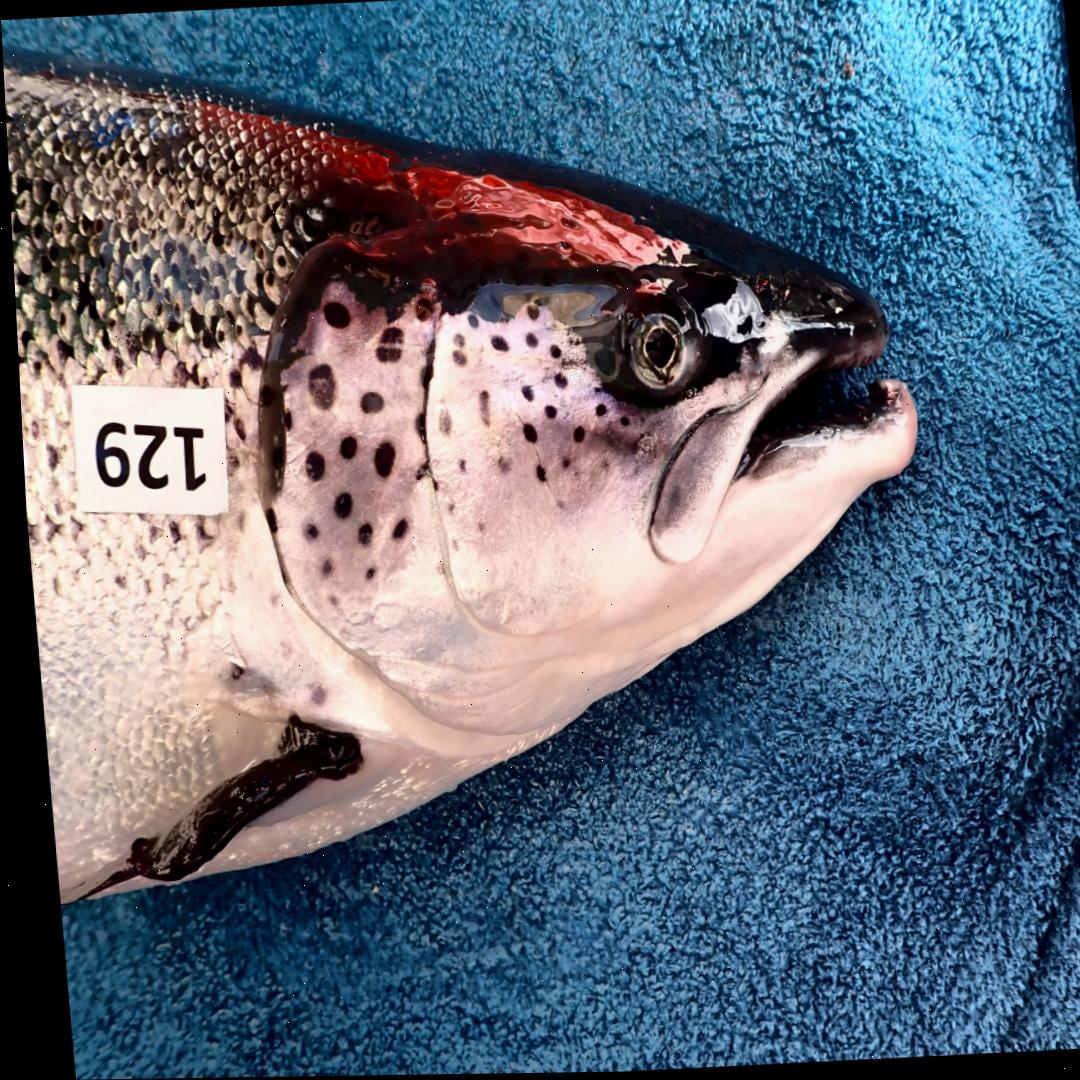spot: (302, 364, 330, 411), (371, 327, 398, 362), (367, 442, 390, 477), (319, 301, 345, 330), (298, 451, 318, 480), (354, 391, 378, 414), (471, 391, 486, 426), (327, 492, 345, 519), (333, 435, 351, 461), (411, 297, 429, 323), (385, 518, 402, 542), (409, 412, 420, 446), (432, 410, 446, 436), (351, 523, 366, 546), (446, 347, 462, 367), (486, 336, 504, 353), (253, 387, 269, 406), (297, 523, 312, 543), (259, 508, 271, 533), (266, 448, 278, 471), (446, 332, 461, 350), (517, 424, 530, 444), (312, 559, 326, 577), (549, 374, 563, 391), (491, 457, 505, 474), (566, 427, 579, 444), (522, 303, 534, 321), (410, 463, 421, 481), (520, 335, 534, 349), (529, 466, 540, 483), (545, 345, 556, 360), (590, 403, 601, 418), (516, 386, 527, 401), (278, 411, 286, 431), (539, 406, 550, 420), (463, 315, 474, 329), (358, 568, 368, 580), (614, 416, 623, 428), (556, 459, 564, 471), (443, 501, 449, 514), (453, 461, 460, 470), (472, 521, 477, 533), (445, 540, 451, 550)
